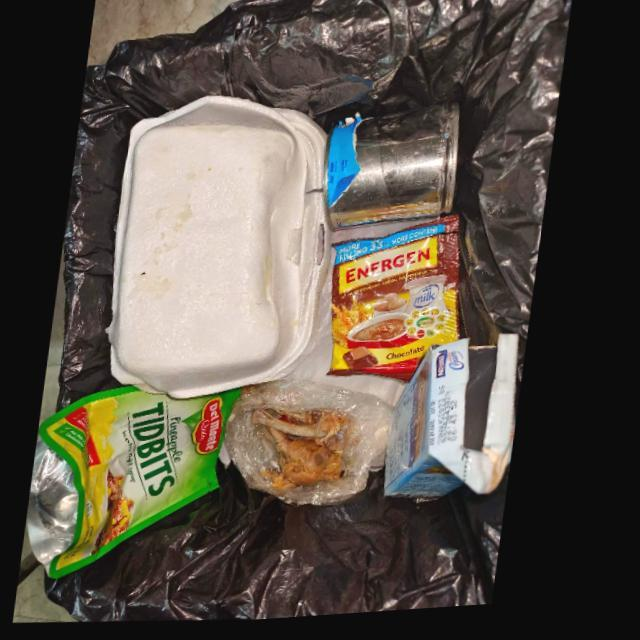biowaste: (259, 413, 356, 493)
metal: (330, 108, 462, 233)
paper: (392, 339, 526, 509)
plastic: (231, 383, 402, 511)
styrofoam: (112, 96, 337, 402)
wrapper: (35, 387, 248, 580), (334, 221, 466, 388)
